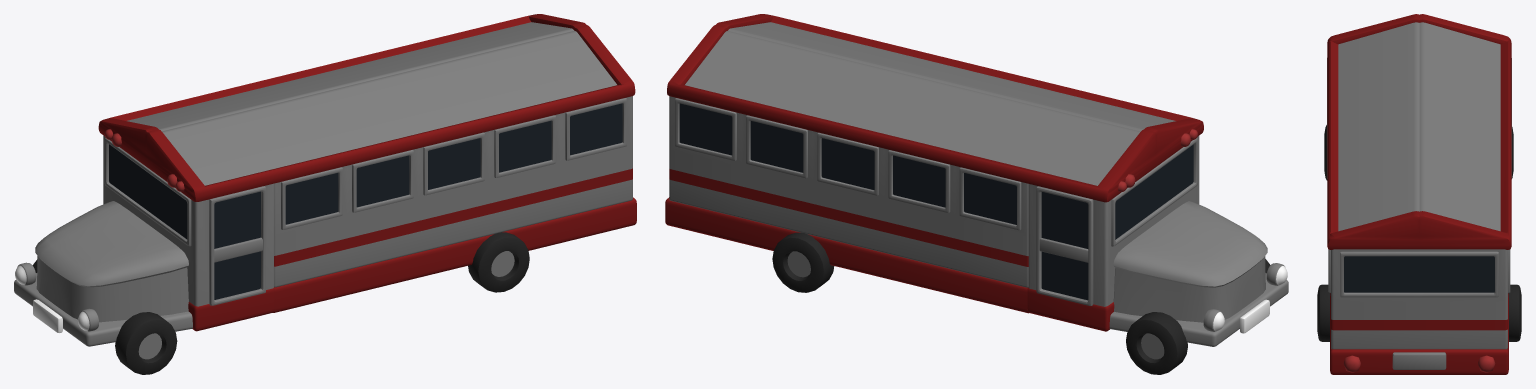
Rendered from SM_schoolbus.fbx.
3 views of the same model, side by side, from view 1: azimuth 30°, elevation 25°; view 2: azimuth 150°, elevation 25°; view 3: azimuth 270°, elevation 25° (orthographic). The views are drawn at different scales.
Visible parts, largest first — view 1: Object32420; view 2: Object32420; view 3: Object32420.
Boxes of the visible parts, left/top/right/bottom form: Object32420: left=14, top=14, right=636, bottom=374; Object32420: left=665, top=14, right=1288, bottom=374; Object32420: left=1317, top=14, right=1521, bottom=374.
Size of the model in its own units: 346 by 118 by 117.
